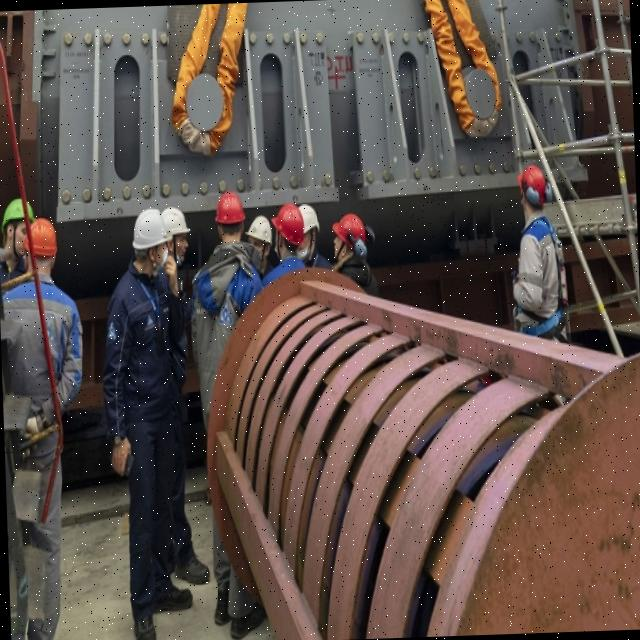Helmet: (130, 209, 171, 252), (331, 212, 371, 254), (271, 203, 305, 247), (26, 220, 60, 261), (518, 165, 550, 206), (215, 193, 247, 231), (3, 197, 34, 231), (164, 207, 192, 240), (246, 215, 275, 246), (304, 204, 321, 239)
NoJacket: (5, 269, 71, 426), (118, 269, 181, 416), (195, 250, 248, 396), (516, 210, 564, 334)
